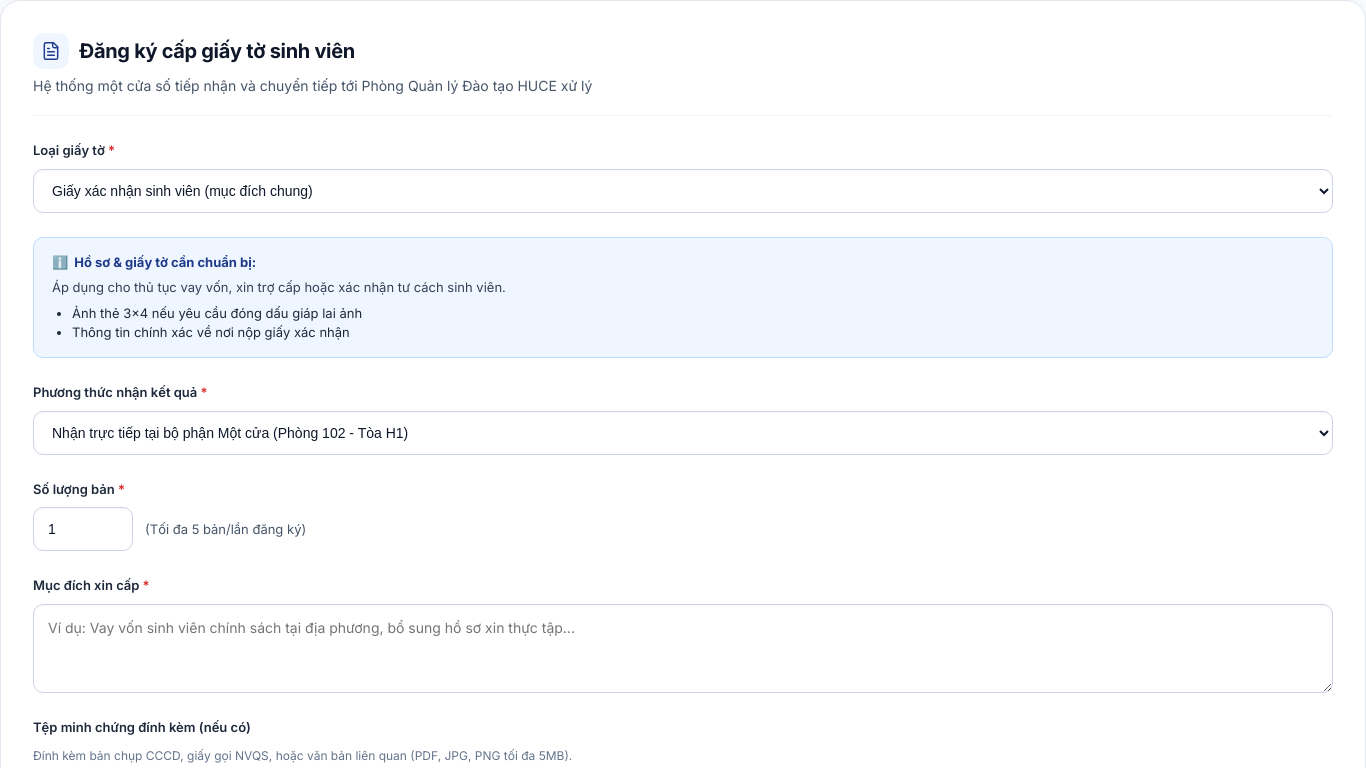
Scenario: DocumentRequestForm Enhanced AI & Attachments › renders transparency intake checklist in preview mode to guide student compliance
Replace the text in the text box labelled "Mục đích xin cấp *" with "Xin cấp bảng điểm phục vụ xét học bổng khuyến khích" at (683,649), box top-left (33, 604), bottom-right (1333, 693)
(page scrolled)
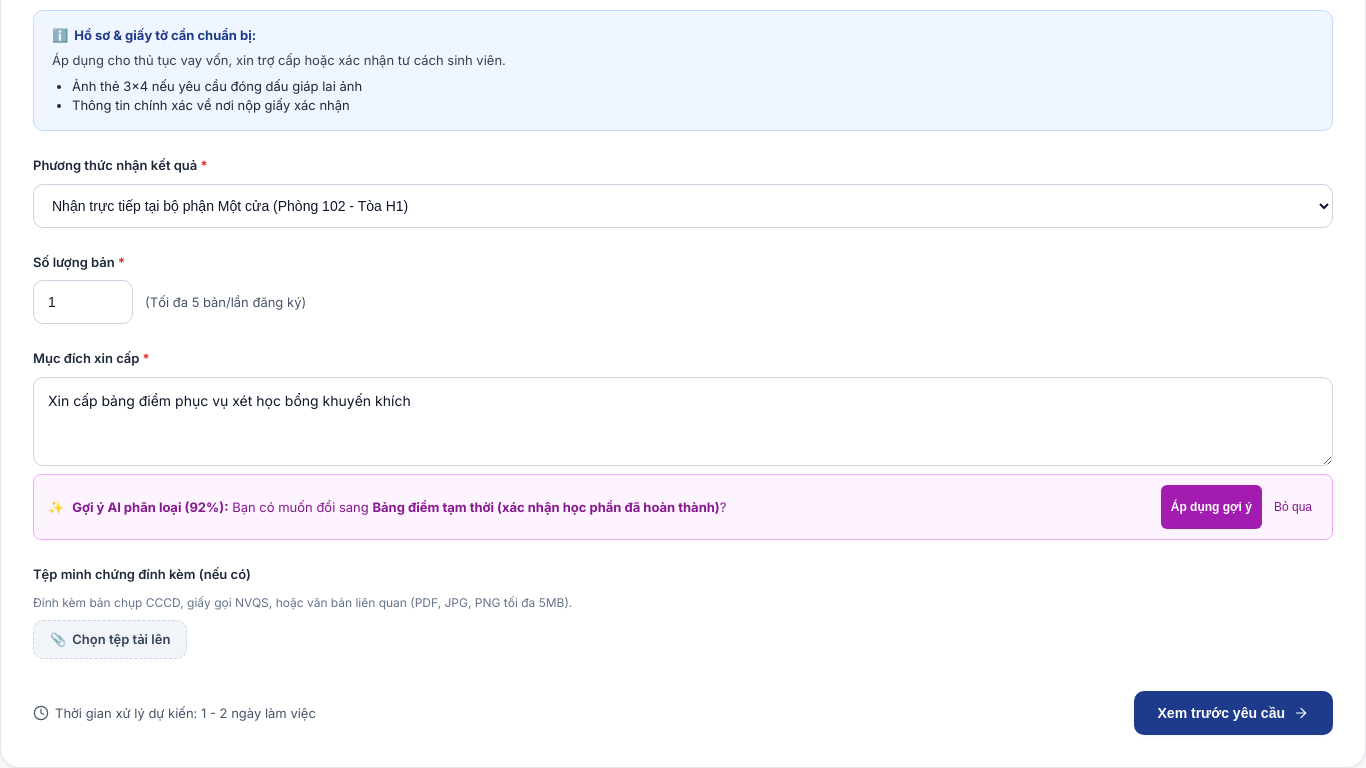
Click the button "Xem trước yêu cầu" at (1233,713), box top-left (1134, 691), bottom-right (1333, 735)
(page scrolled)
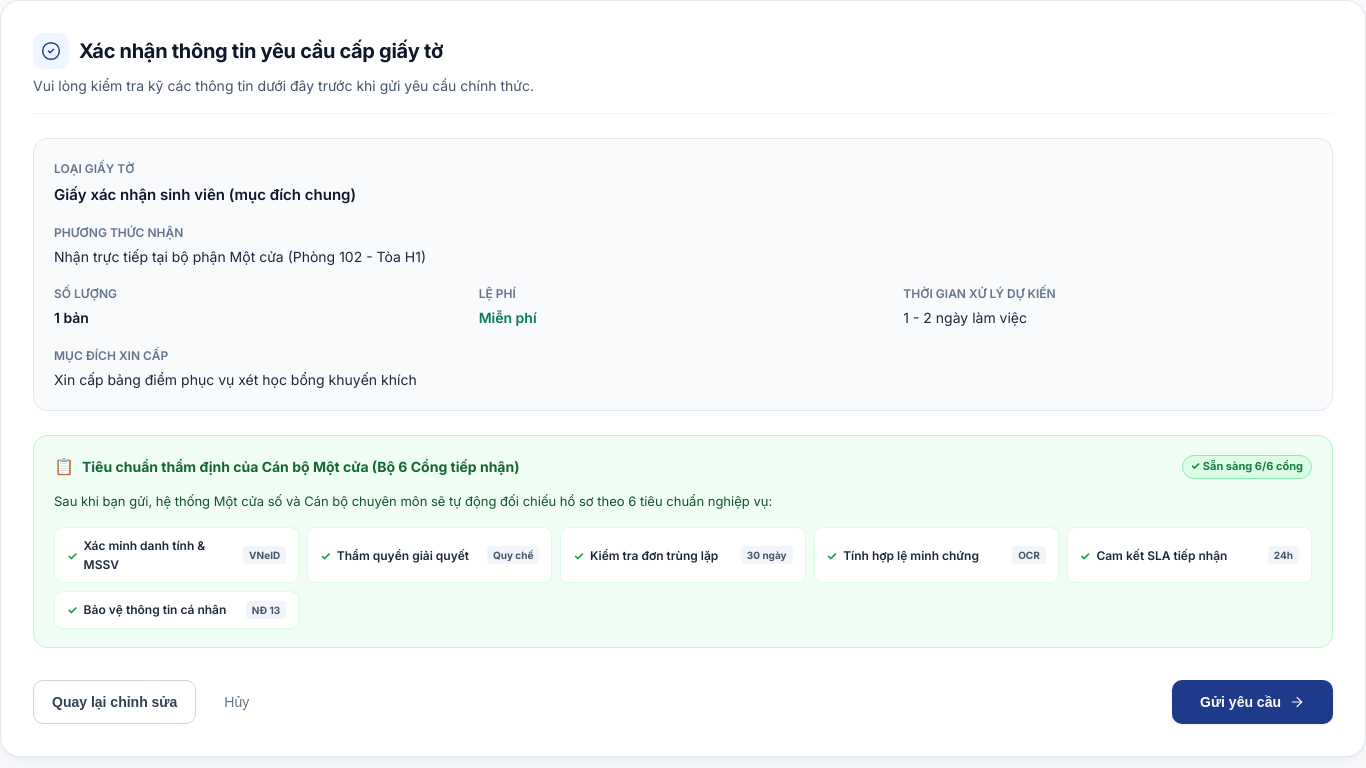
expect the heading "Tiêu chuẩn thẩm định của Cán bộ Một cửa" is shown: met, box top-left (82, 458), bottom-right (520, 474)
expect the text "Xác minh danh tính & MSSV" is shown: met, box top-left (84, 538), bottom-right (205, 572)
expect the text "Cam kết SLA tiếp nhận" is shown: met, box top-left (1096, 546), bottom-right (1227, 565)
